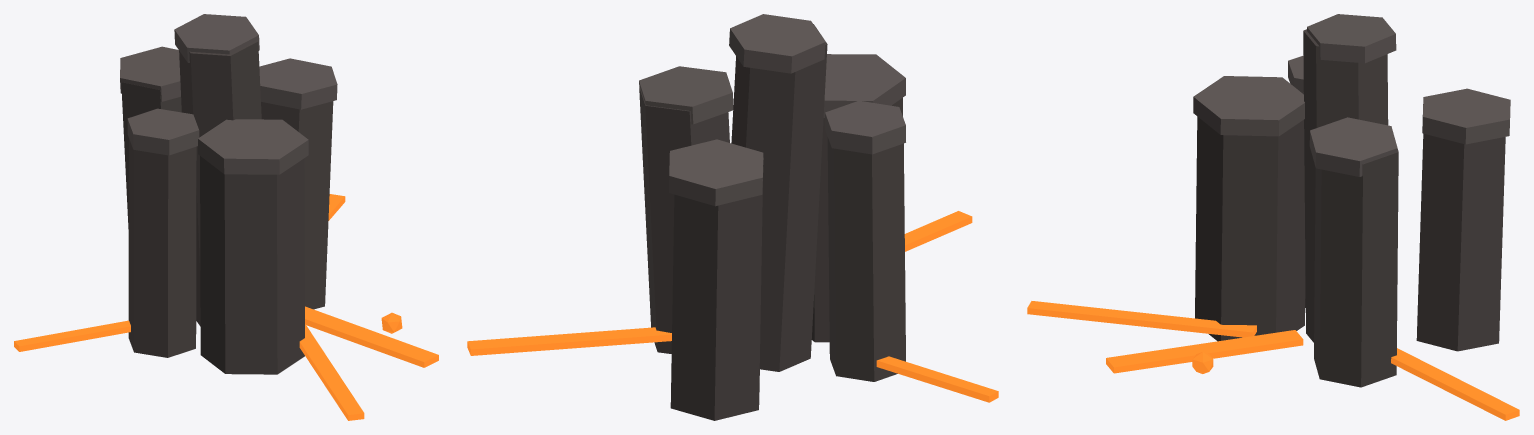
File: runtime.glb
The picture shows the model from 3 angles, left to right: view 1: azimuth 30°, elevation 25°; view 2: azimuth 150°, elevation 25°; view 3: azimuth 270°, elevation 25°; orthographic projection. The views are drawn at different scales.
Visible parts, largest first — view 1: magma_outcrop_basalt_nocol, magma_outcrop_cap_noshadow_nocol, magma_outcrop_lava_noshadow_nocol; view 2: magma_outcrop_basalt_nocol, magma_outcrop_cap_noshadow_nocol, magma_outcrop_lava_noshadow_nocol; view 3: magma_outcrop_basalt_nocol, magma_outcrop_cap_noshadow_nocol, magma_outcrop_lava_noshadow_nocol.
Boxes of the visible parts, <box> form: magma_outcrop_basalt_nocol: <box>121,40,333,374</box>; magma_outcrop_cap_noshadow_nocol: <box>120,14,337,174</box>; magma_outcrop_lava_noshadow_nocol: <box>14,194,438,420</box>; magma_outcrop_basalt_nocol: <box>639,24,905,420</box>; magma_outcrop_cap_noshadow_nocol: <box>639,14,905,206</box>; magma_outcrop_lava_noshadow_nocol: <box>467,211,998,402</box>; magma_outcrop_basalt_nocol: <box>1195,29,1505,387</box>; magma_outcrop_cap_noshadow_nocol: <box>1193,14,1510,176</box>; magma_outcrop_lava_noshadow_nocol: <box>1027,301,1519,420</box>.
Bounding box in the file's own units: 4.31 × 2.99 × 4.38.
